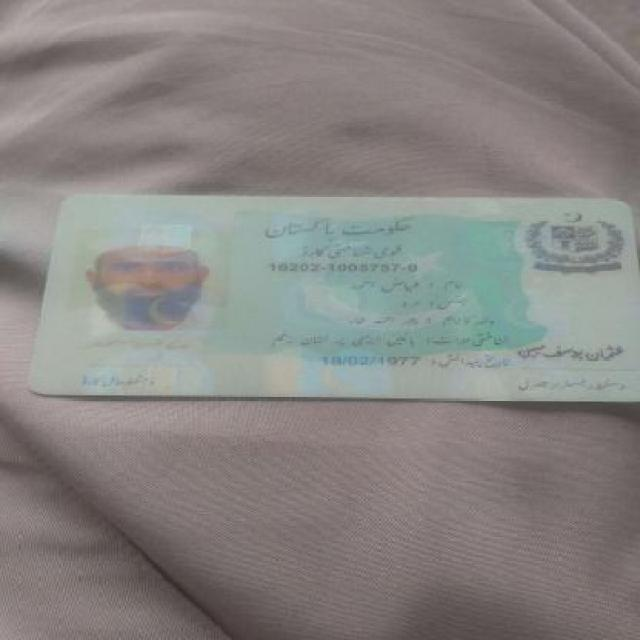Front: (36, 192, 630, 402)
